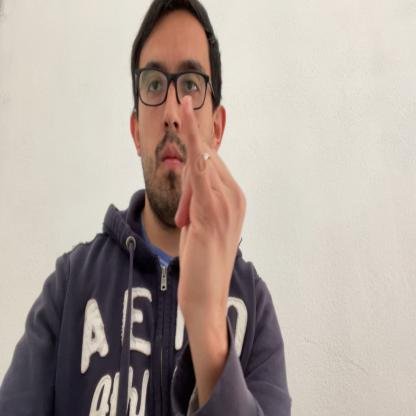I: (176, 92, 248, 338)
